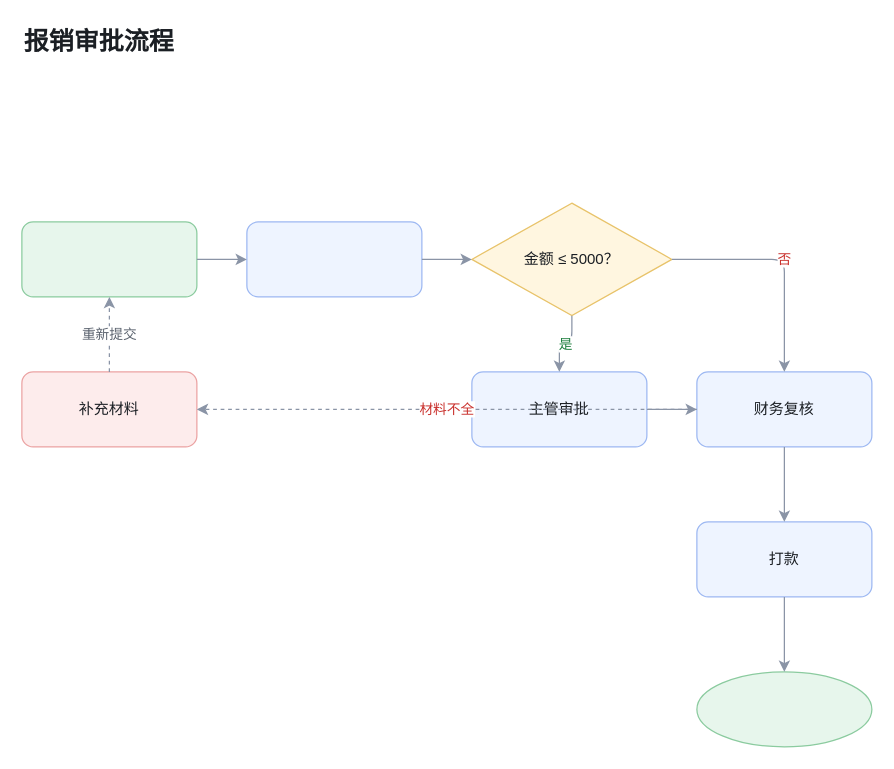
This 894x769 diagram has some shape labels left out. Here are the shapes that lost their labels. From the top down, the centre of each, then its label:
At [109,259]: "提交报销单".
At [334,259]: "自动校验".
At [784,709]: "完成".
